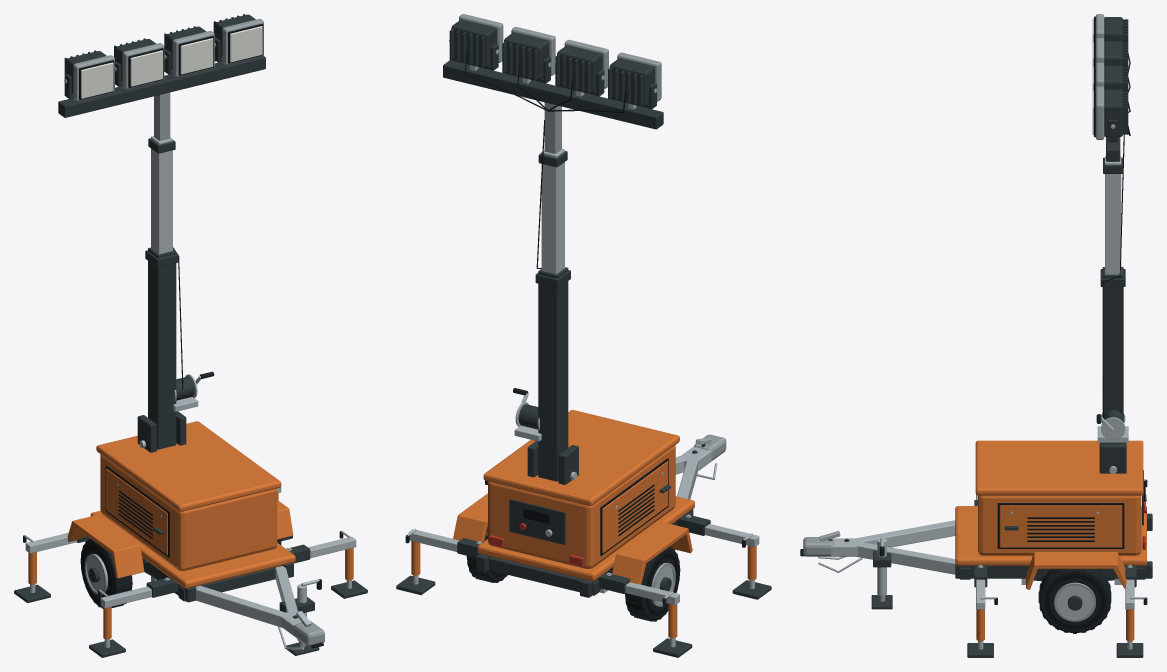
File: city-roadwork-light-trailer.glb
The picture shows the model from 3 angles, left to right: view 1: azimuth 30°, elevation 25°; view 2: azimuth 150°, elevation 25°; view 3: azimuth 270°, elevation 25°; orthographic projection. The views are drawn at different scales.
Visible parts, largest first — view 1: Assembly | Warm industrial orange enamel, Assembly | Graphite painted structure, Assembly | Brushed galvanized hardware, Assembly | Frosted off-white lamp face, Assembly | Cast aluminium surface, Assembly | Matte black recess, Assembly | Molded charcoal rubber; view 2: Assembly | Graphite painted structure, Assembly | Warm industrial orange enamel, Assembly | Brushed galvanized hardware, Assembly | Cast aluminium surface, Assembly | Matte black recess, Assembly | Molded charcoal rubber; view 3: Assembly | Warm industrial orange enamel, Assembly | Graphite painted structure, Assembly | Brushed galvanized hardware, Assembly | Matte black recess, Assembly | Molded charcoal rubber, Assembly | Cast aluminium surface.
Boxes of the visible parts, x1=… form: Assembly | Warm industrial orange enamel: x1=28, y1=421, x2=353, y2=639; Assembly | Graphite painted structure: x1=14, y1=14, x2=367, y2=657; Assembly | Brushed galvanized hardware: x1=24, y1=43, x2=356, y2=649; Assembly | Frosted off-white lamp face: x1=81, y1=26, x2=262, y2=98; Assembly | Cast aluminium surface: x1=73, y1=18, x2=324, y2=647; Assembly | Matte black recess: x1=79, y1=23, x2=323, y2=648; Assembly | Molded charcoal rubber: x1=23, y1=371, x2=343, y2=608; Assembly | Graphite painted structure: x1=396, y1=19, x2=771, y2=657; Assembly | Warm industrial orange enamel: x1=411, y1=410, x2=756, y2=638; Assembly | Brushed galvanized hardware: x1=406, y1=39, x2=759, y2=647; Assembly | Cast aluminium surface: x1=459, y1=14, x2=726, y2=606; Assembly | Matte black recess: x1=464, y1=51, x2=678, y2=616; Assembly | Molded charcoal rubber: x1=405, y1=388, x2=745, y2=621; Assembly | Warm industrial orange enamel: x1=955, y1=440, x2=1146, y2=641; Assembly | Graphite painted structure: x1=828, y1=17, x2=1152, y2=657; Assembly | Brushed galvanized hardware: x1=818, y1=124, x2=1146, y2=649; Assembly | Matte black recess: x1=800, y1=16, x2=1145, y2=629; Assembly | Molded charcoal rubber: x1=879, y1=414, x2=1147, y2=633; Assembly | Cast aluminium surface: x1=803, y1=14, x2=1118, y2=621.
Bounding box in the file's own units: 2.18 × 4.19 × 2.5.
